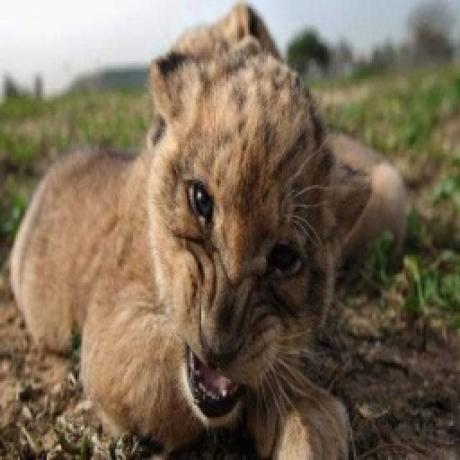Lion: (10, 26, 380, 460)
